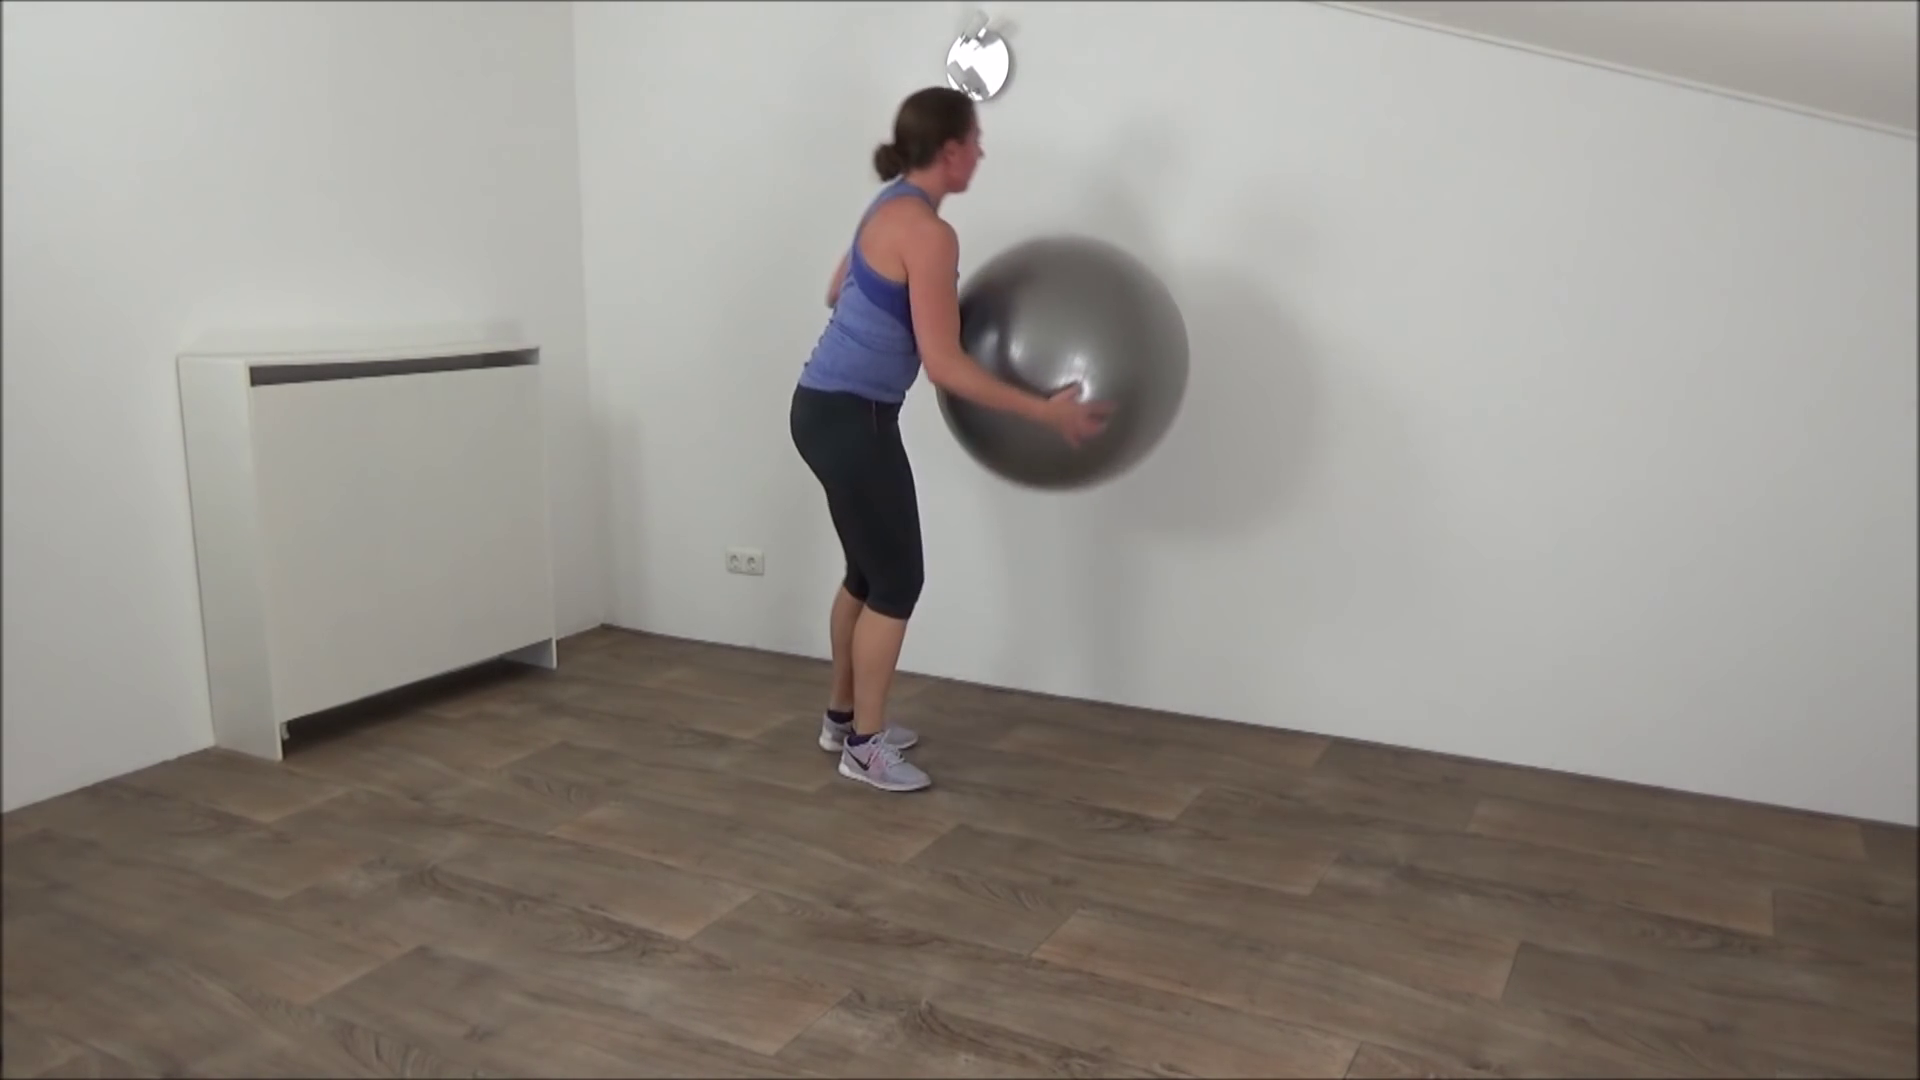yogaball: (927, 227, 1207, 516)
